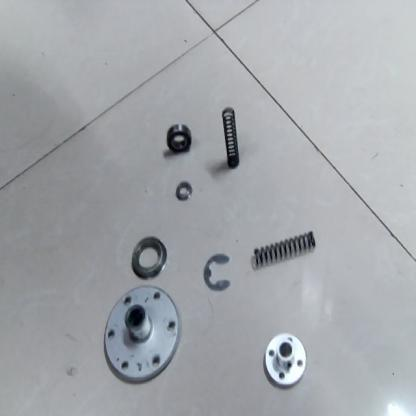FOD: (101, 284, 182, 388), (250, 226, 318, 272), (261, 328, 308, 393), (128, 233, 170, 279), (219, 102, 243, 174), (202, 250, 235, 294), (164, 122, 195, 157), (171, 179, 196, 204)
